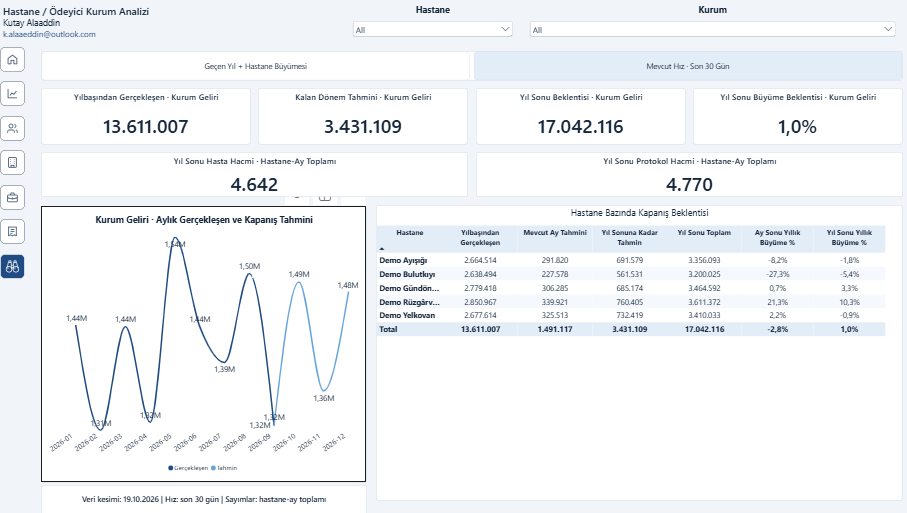

Layout of this report page (visuals, bound fields, positions):
{"tool":"powerbi","page":{"name":"Projeksiyon","canvas":[1920,1080],"ordinal":8},"visuals":[{"type":"image","box":[12,8,318,80],"z":0},{"type":"slicer","title":"Hastane","fields":{"Values":["dim_hastane.Hastane"]},"box":[740,8,350,78],"z":1000},{"type":"slicer","title":"Kurum","fields":{"Values":["dim_kurum.Kurum"]},"box":[1110,8,780,78],"z":2000},{"type":"advancedSlicerVisual","fields":{"Values":["Seçim Tahmin Yaklaşımı.Yaklaşım"]},"box":[96,108,1800,62],"z":3000},{"type":"card","title":"Yılbaşından Gerçekleşen · Kurum Geliri","fields":{"Values":["Göstergeler.Projeksiyon Yılbaşından"]},"box":[96,186,438,118],"z":4000},{"type":"card","title":"Kalan Dönem Tahmini · Kurum Geliri","fields":{"Values":["Göstergeler.Projeksiyon Kalan"]},"box":[550,186,438,118],"z":5000},{"type":"card","title":"Yıl Sonu Beklentisi · Kurum Geliri","fields":{"Values":["Göstergeler.Projeksiyon Yıl Sonu"]},"box":[1004,186,438,118],"z":6000},{"type":"card","title":"Yıl Sonu Büyüme Beklentisi · Kurum Geliri","fields":{"Values":["Göstergeler.Projeksiyon Büyüme"]},"box":[1458,186,438,118],"z":7000},{"type":"card","title":"Brüt Gelir","fields":{"Values":["Göstergeler.Projeksiyon Bilgi"]},"box":[96,1015.9,680.7,64.6],"z":8000},{"type":"lineChart","title":"Kurum Geliri · Aylık Gerçekleşen ve Kapanış Tahmini","fields":{"Category":["dim_date.Yıl-Ay"],"Y":["Göstergeler.Projeksiyon Grafik Gerçekleşen","Göstergeler.Projeksiyon Birleşik Tahmin"]},"box":[96,432,680,578],"z":9000},{"type":"pivotTable","title":"Hastane Bazında Kapanış Beklentisi","fields":{"Rows":["dim_hastane.Hastane"],"Values":["Göstergeler.Projeksiyon Yılbaşından","Göstergeler.Projeksiyon Ay Sonu","Göstergeler.Projeksiyon Kalan","Göstergeler.Projeksiyon Yıl Sonu","Göstergeler.Projeksiyon Ay Sonu Büyüme","Göstergeler.Projeksiyon Büyüme"]},"box":[795.9,431.1,1099.6,617.9],"z":10000},{"type":"card","title":"Yıl Sonu Hasta Hacmi · Hastane-Ay Toplamı","fields":{"Values":["Göstergeler.Projeksiyon Hasta Kapanış"]},"box":[96,320,892,94],"z":11000},{"type":"card","title":"Yıl Sonu Protokol Hacmi · Hastane-Ay Toplamı","fields":{"Values":["Göstergeler.Projeksiyon Protokol Kapanış"]},"box":[1004,320,892,94],"z":12000},{"type":"image","box":[10,460,52,52],"z":13000},{"type":"image","box":[10,172,52,52],"z":14000},{"type":"image","box":[10,316,52,52],"z":15000},{"type":"image","box":[10,100,52,52],"z":16000},{"type":"image","box":[10,388,52,52],"z":17000},{"type":"image","box":[10,244,52,52],"z":18000},{"type":"image","box":[10,532,52,52],"z":19000}]}

Visuals, with their boxes on the page's 1920x1080 design canvas (x1, y1, x2, y2). These are canvas units, not pixel positions in the 907x513 screenshot, which may show the page scaled, cropped or inside an application window:
image: region(12, 8, 330, 88)
"Hastane" slicer: region(740, 8, 1090, 86)
"Kurum" slicer: region(1110, 8, 1890, 86)
advancedSlicerVisual - Seçim Tahmin Yaklaşımı.Yaklaşım: region(96, 108, 1896, 170)
"Yılbaşından Gerçekleşen · Kurum Geliri" card: region(96, 186, 534, 304)
"Kalan Dönem Tahmini · Kurum Geliri" card: region(550, 186, 988, 304)
"Yıl Sonu Beklentisi · Kurum Geliri" card: region(1004, 186, 1442, 304)
"Yıl Sonu Büyüme Beklentisi · Kurum Geliri" card: region(1458, 186, 1896, 304)
"Brüt Gelir" card: region(96, 1016, 777, 1080)
"Kurum Geliri · Aylık Gerçekleşen ve Kapanış Tahmini" lineChart: region(96, 432, 776, 1010)
"Hastane Bazında Kapanış Beklentisi" pivotTable: region(796, 431, 1896, 1049)
"Yıl Sonu Hasta Hacmi · Hastane-Ay Toplamı" card: region(96, 320, 988, 414)
"Yıl Sonu Protokol Hacmi · Hastane-Ay Toplamı" card: region(1004, 320, 1896, 414)
image: region(10, 460, 62, 512)
image: region(10, 172, 62, 224)
image: region(10, 316, 62, 368)
image: region(10, 100, 62, 152)
image: region(10, 388, 62, 440)
image: region(10, 244, 62, 296)
image: region(10, 532, 62, 584)
